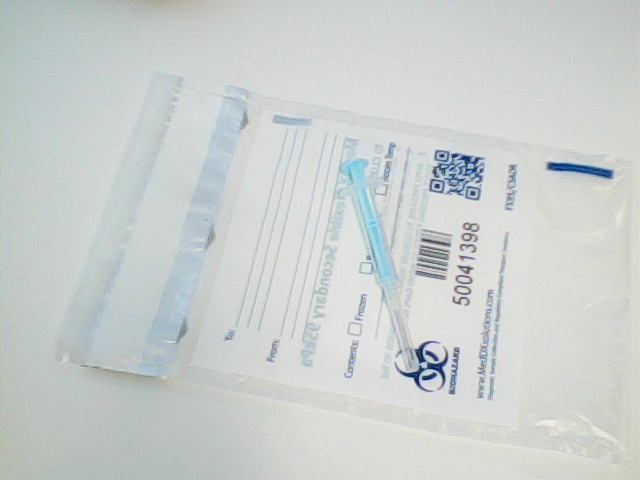syringe: (335, 148, 423, 375)
